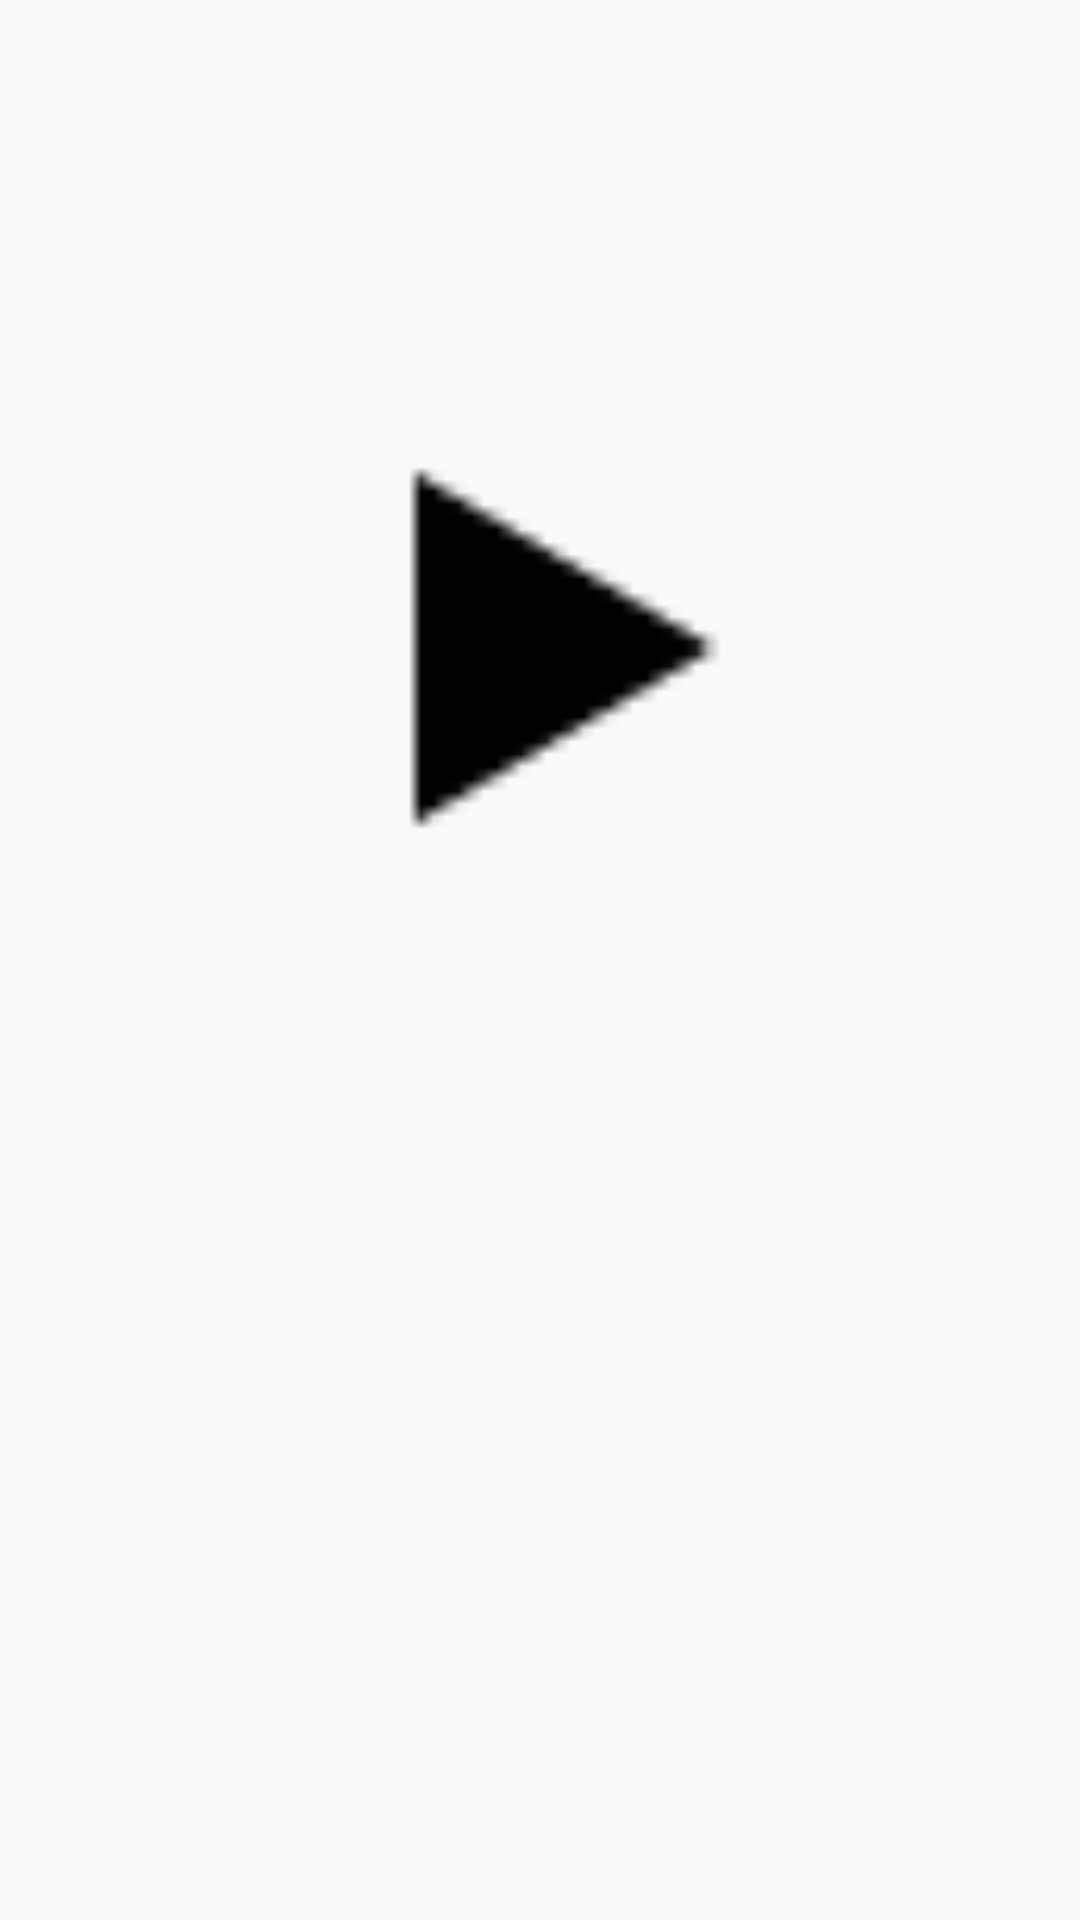

Where to tap for icons on this 1080*1920 app screen, as (x,y):
play: (563,648)
